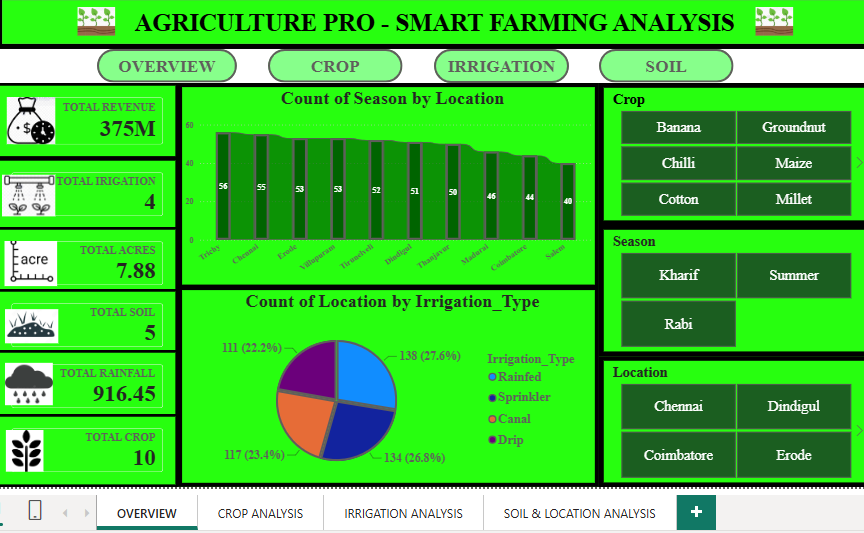

The page's visual inventory and layout, read from the dashboard file:
{"tool":"powerbi","page":{"name":"OVERVIEW","canvas":[1280,720],"ordinal":0},"visuals":[{"type":"shape","box":[0,0,1280.5,79],"z":0},{"type":"cardVisual","fields":{"Data":["Agriculture_Data.TOTAL REVENUE"]},"box":[0,128.8,264.9,111.2],"z":1000},{"type":"cardVisual","fields":{"Data":["Agriculture_Data.TOTAL IRIGATION"]},"box":[0,238.1,264.9,106.8],"z":2000},{"type":"cardVisual","fields":{"Data":["Agriculture_Data.TOTAL ACRES"]},"box":[0,339.7,264.9,106.8],"z":3000},{"type":"cardVisual","fields":{"Data":["Agriculture_Data.TOTAL SOIL"]},"box":[0,430.2,264.9,106.8],"z":4000},{"type":"cardVisual","fields":{"Data":["Agriculture_Data.TOTAL RAINFALL"]},"box":[0,519.5,264.9,106.8],"z":5000},{"type":"cardVisual","fields":{"Data":["Agriculture_Data.TOTAL CROP"]},"box":[0,613.2,264.9,106.8],"z":6000},{"type":"ribbonChart","fields":{"Category":["Agriculture_Data.Location"],"Y":["CountNonNull(Agriculture_Data.Season)"]},"box":[264.9,128.8,616.1,301.5],"z":7000},{"type":"pieChart","fields":{"Category":["Agriculture_Data.Irrigation_Type"],"Y":["CountNonNull(Agriculture_Data.Location)"]},"box":[264.9,425.9,616.1,294.1],"z":8000},{"type":"slicer","fields":{"Values":["Agriculture_Data.Location"]},"box":[881,528.3,399.5,191.7],"z":9000},{"type":"slicer","fields":{"Values":["Agriculture_Data.Crop"]},"box":[881,128.8,399.5,207.8],"z":10000},{"type":"slicer","fields":{"Values":["Agriculture_Data.Season"]},"box":[881,336.6,399.5,191.7],"z":11000},{"type":"image","box":[7.3,149.3,84.9,68.8],"z":12000},{"type":"image","box":[84.9,17.6,121.5,42.4],"z":13000},{"type":"image","box":[1077.1,17.6,121.5,42.4],"z":14000},{"type":"image","box":[7.3,240,77.6,106.8],"z":15000},{"type":"image","box":[0,360,99.5,65.9],"z":16000},{"type":"image","box":[11.7,450.7,77.6,67.3],"z":17000},{"type":"image","box":[11.7,528.3,70.2,82],"z":18000},{"type":"image","box":[0,636.6,82,61.5],"z":19000},{"type":"actionButton","box":[639.5,79,197.6,49.8],"z":20000},{"type":"actionButton","box":[396.8,79.4,196.8,49.2],"z":21000},{"type":"actionButton","box":[146,79.4,204.8,49.2],"z":22000},{"type":"actionButton","box":[881,79.4,196.8,49.2],"z":23000}]}

Visuals, with their boxes in screenshot pixels (x1, y1, x2, y2):
shape: crop(0, 0, 863, 46)
cardVisual - Agriculture_Data.TOTAL REVENUE: crop(0, 80, 176, 157)
cardVisual - Agriculture_Data.TOTAL IRIGATION: crop(0, 155, 176, 229)
cardVisual - Agriculture_Data.TOTAL ACRES: crop(0, 225, 176, 299)
cardVisual - Agriculture_Data.TOTAL SOIL: crop(0, 288, 176, 362)
cardVisual - Agriculture_Data.TOTAL RAINFALL: crop(0, 350, 176, 423)
cardVisual - Agriculture_Data.TOTAL CROP: crop(0, 414, 176, 488)
ribbonChart - Agriculture_Data.Location x CountNonNull(Agriculture_Data.Season): crop(176, 80, 601, 288)
pieChart - Agriculture_Data.Irrigation_Type x CountNonNull(Agriculture_Data.Location): crop(176, 285, 601, 488)
slicer - Agriculture_Data.Location: crop(601, 356, 863, 488)
slicer - Agriculture_Data.Crop: crop(601, 80, 863, 223)
slicer - Agriculture_Data.Season: crop(601, 223, 863, 356)
image: crop(0, 94, 57, 142)
image: crop(52, 3, 136, 32)
image: crop(737, 3, 820, 32)
image: crop(0, 157, 52, 230)
image: crop(0, 239, 62, 285)
image: crop(1, 302, 55, 348)
image: crop(1, 356, 50, 412)
image: crop(0, 430, 50, 473)
actionButton: crop(435, 46, 571, 80)
actionButton: crop(267, 46, 403, 80)
actionButton: crop(94, 46, 235, 80)
actionButton: crop(601, 46, 737, 80)
